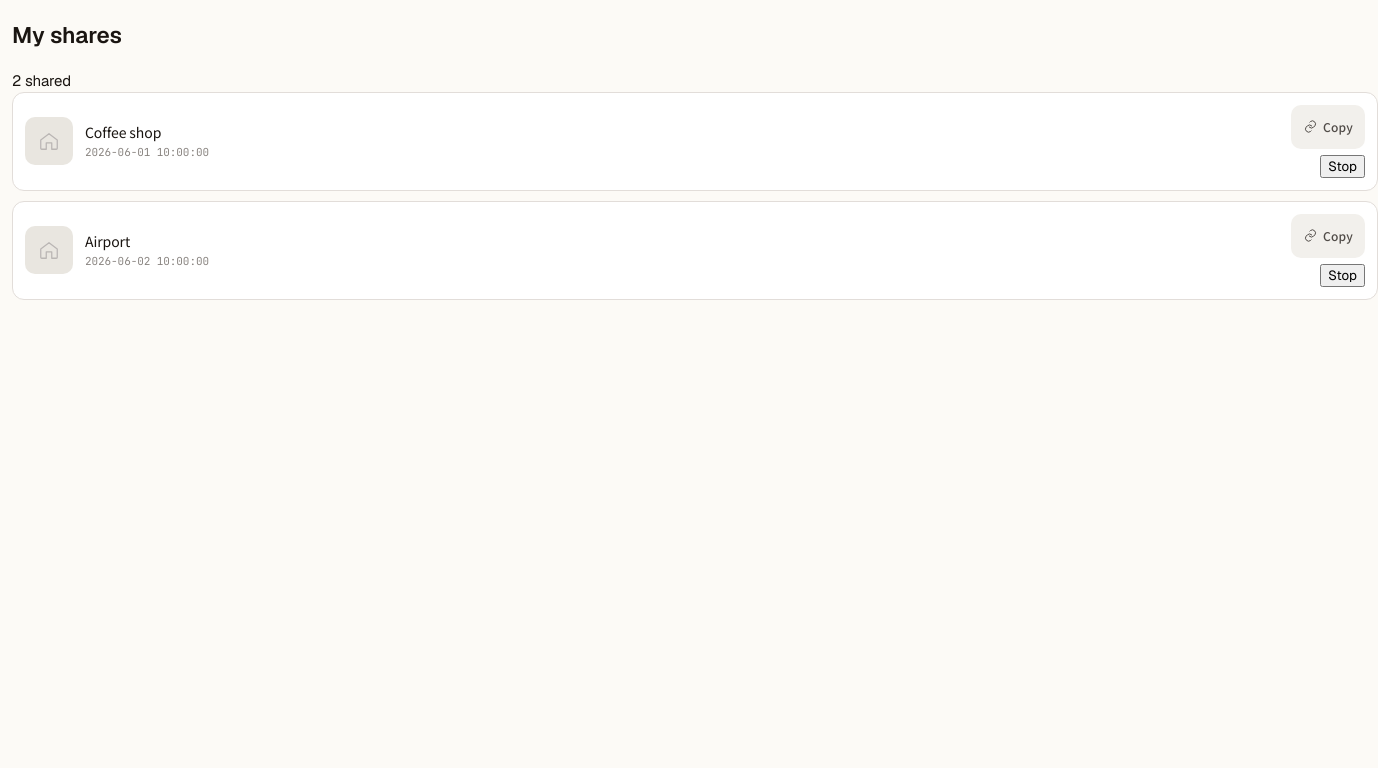
Scenario: ManageSharesPage › does not remove the item when stopping share fails
Expected: the text "Coffee shop" is shown, [85,122,161,142]
Click the button "Stop" in the row of "2026-06-01 10:00:00": [1343, 166] box [1320,155,1365,178]
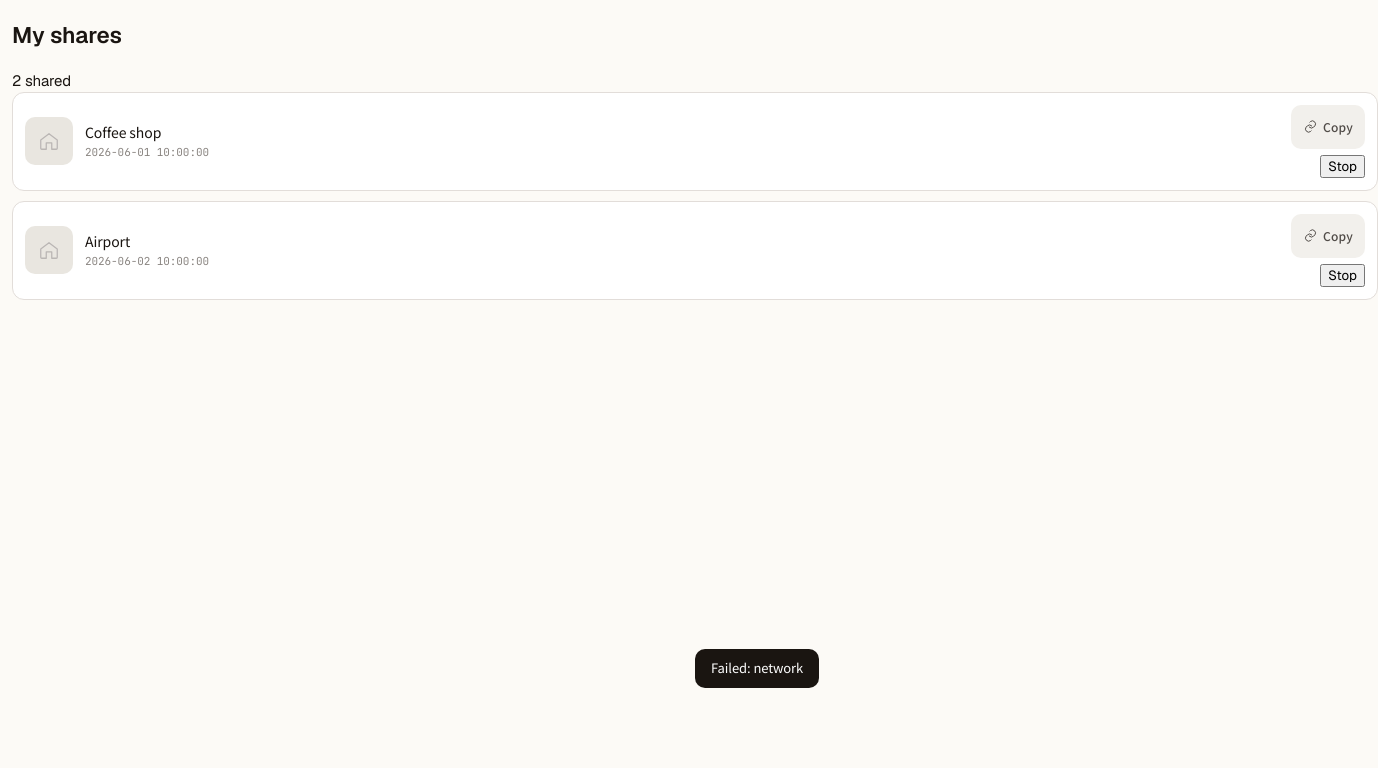
Expected: the text "Coffee shop" is shown, [85,122,161,142]
Result: the text "Failed: network" is shown at [695,649,819,688]
